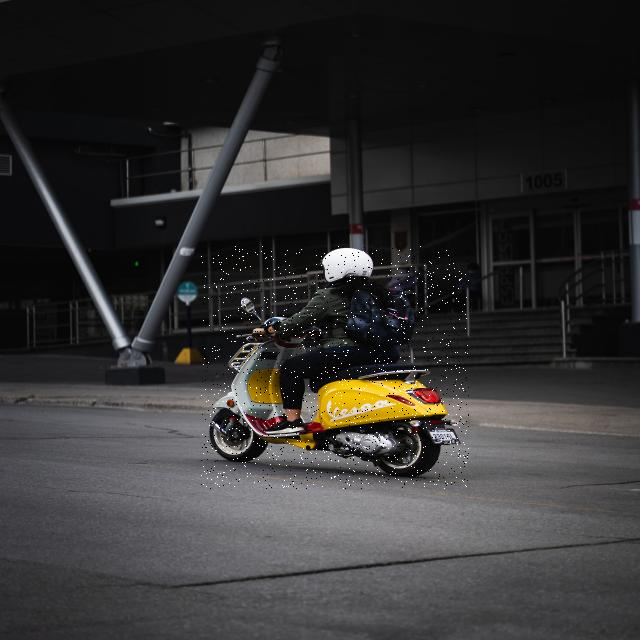With Helmet: (201, 246, 469, 489)
